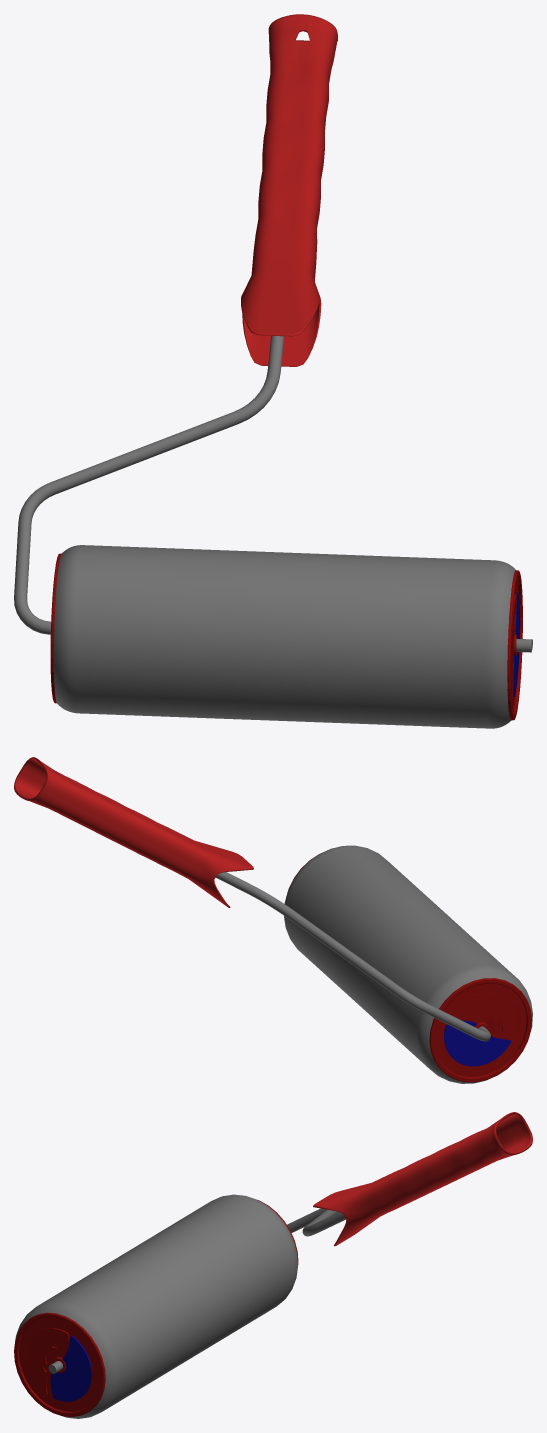
Rendered from brushroll.obj.
3 views of the same model, one above another, from view 1: azimuth 30°, elevation 25°; view 2: azimuth 150°, elevation 25°; view 3: azimuth 270°, elevation 25° (orthographic). The views are drawn at different scales.
Visible parts, largest first — view 1: Object002, xx, Line001, rol; view 2: Object002, xx, rol, Line001, Circle002, Object004; view 3: Object002, xx, rol, Circle001, Object003, Line001.
Boxes of the visible parts, left/top/right/bottom form: Object002: left=53, top=545, right=515, bottom=728; xx: left=241, top=14, right=337, bottom=366; Line001: left=14, top=336, right=532, bottom=652; rol: left=50, top=553, right=522, bottom=720; Object002: left=284, top=845, right=532, bottom=1083; xx: left=14, top=757, right=253, bottom=907; rol: left=288, top=854, right=531, bottom=1082; Line001: left=216, top=872, right=490, bottom=1041; Circle002: left=444, top=1020, right=511, bottom=1066; Object004: left=450, top=993, right=516, bottom=1038; Object002: left=14, top=1194, right=297, bottom=1418; xx: left=313, top=1112, right=532, bottom=1246; rol: left=14, top=1200, right=298, bottom=1416; Circle001: left=50, top=1335, right=92, bottom=1401; Object003: left=27, top=1328, right=69, bottom=1394; Line001: left=48, top=1208, right=345, bottom=1373.
Bounding box in the file's own units: 179 × 162 × 225.
